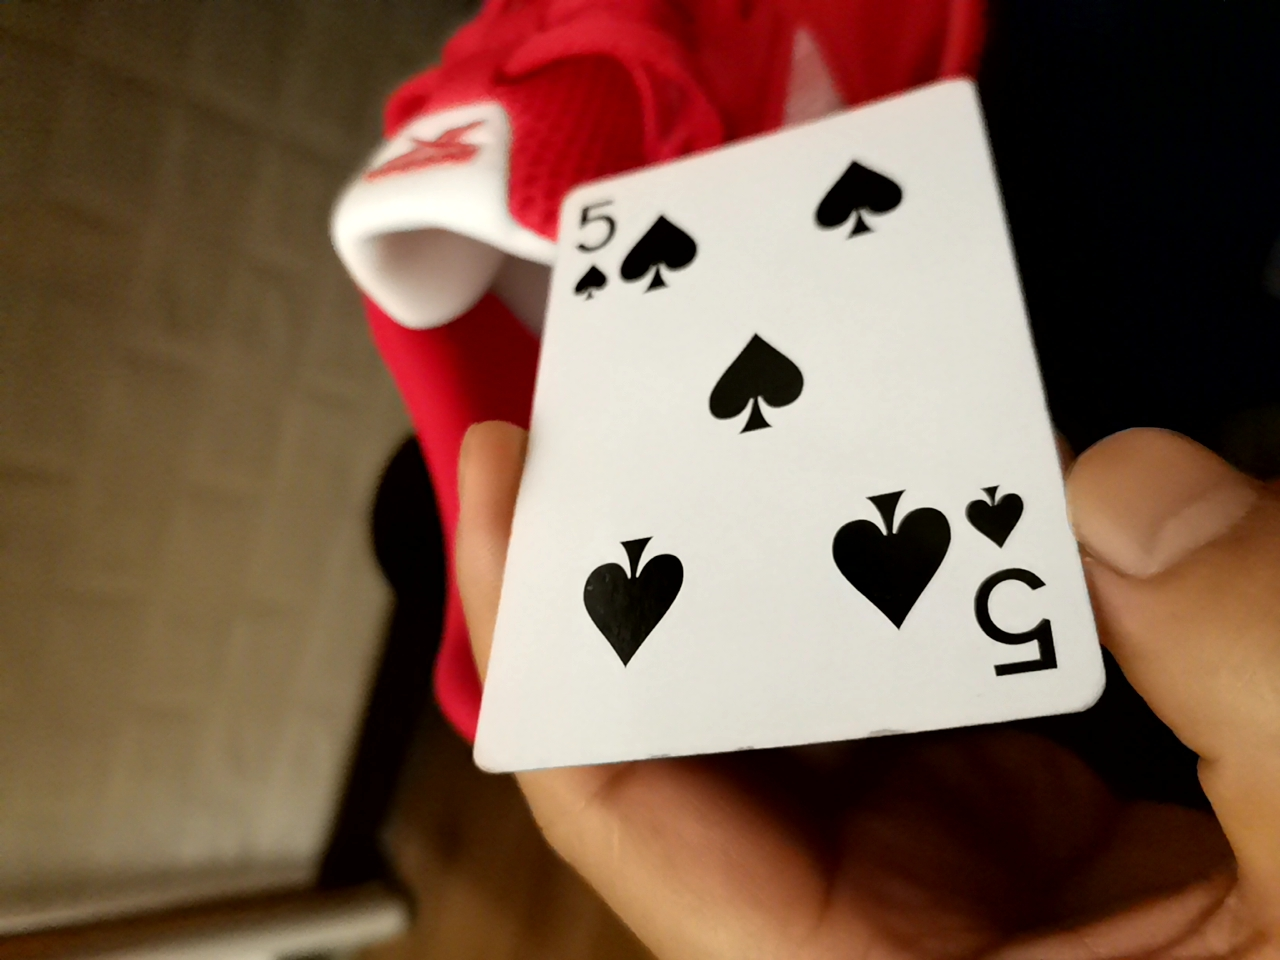ht 5: (451, 94, 1082, 788)
